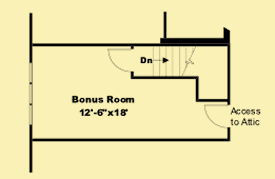door: (202, 103, 230, 129), (107, 47, 133, 74)
stairs: (137, 45, 199, 77)
window: (27, 61, 35, 126)
